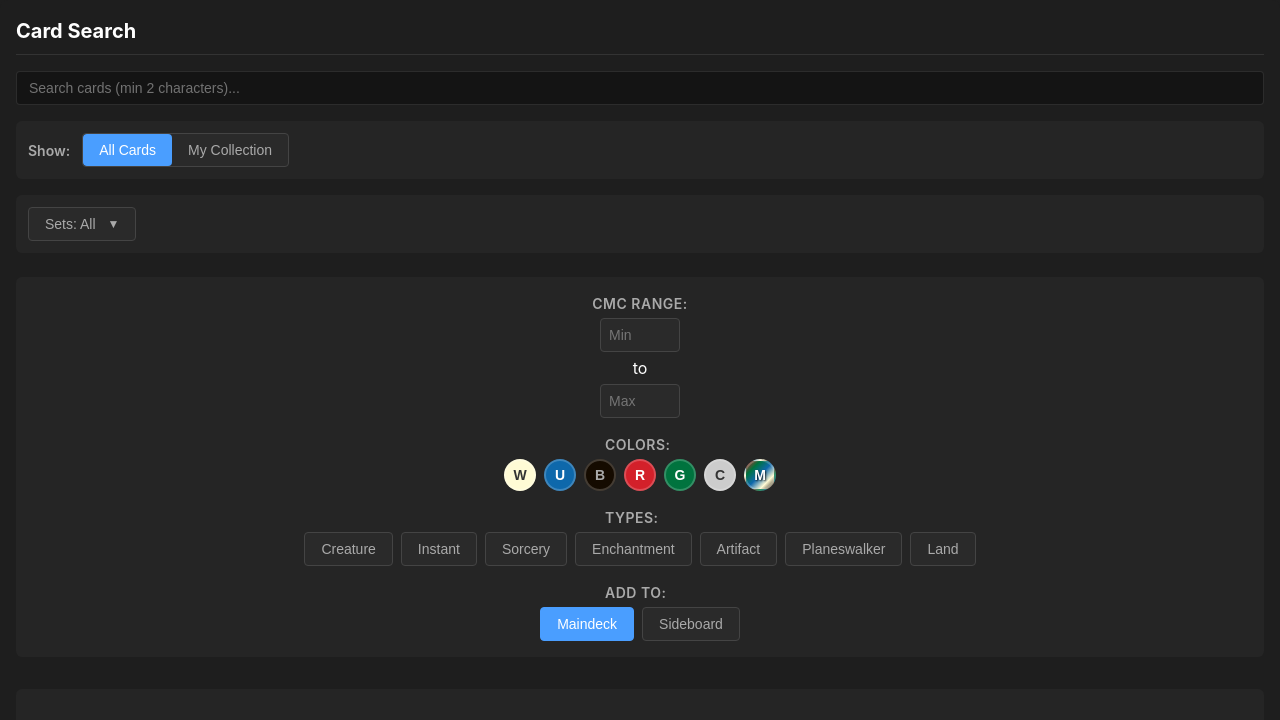
Test: CardSearch Component › Constructed Mode › should show collection empty message when collection filter active and no results
This screenshot has width=1280, height=720.
Note: Click on "My Collection" toggle
Click the button "My Collection".
click(230, 150)  # box [172,134,288,166]
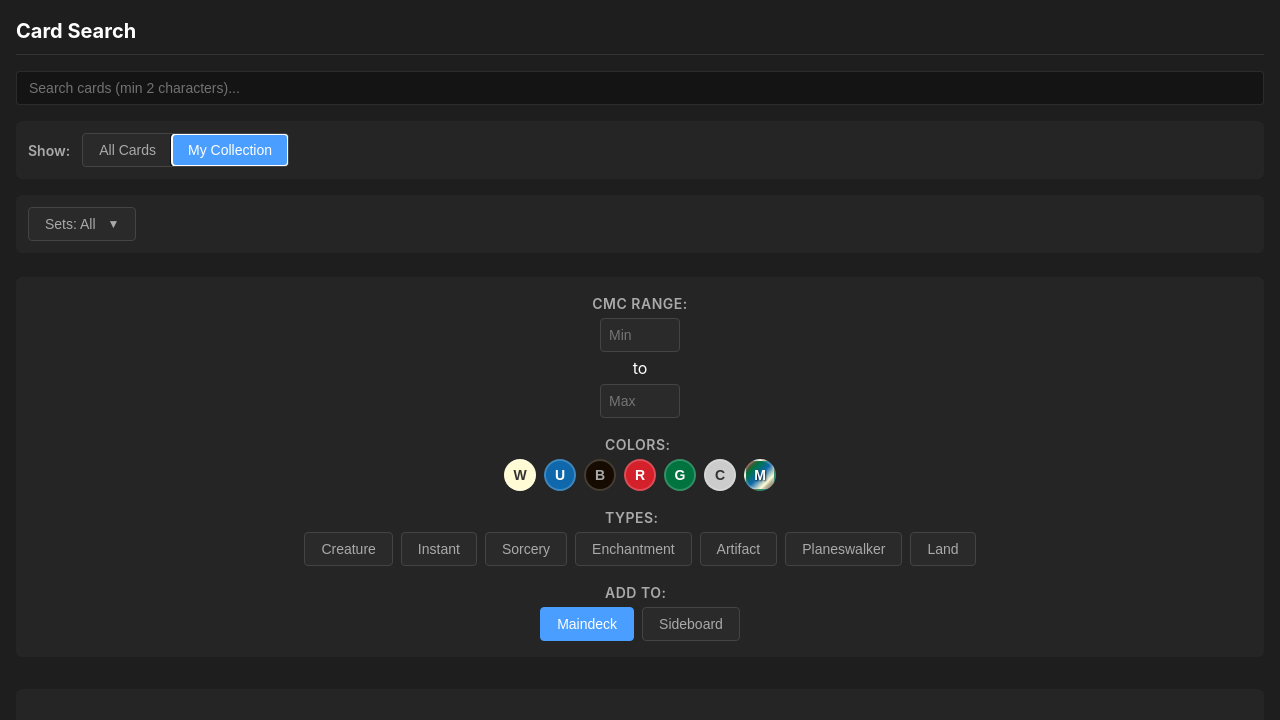
Note: Search for a card
Type "nonexistent" into the field with placeholder "Search cards (min 2 characters)...".
click(640, 88); type("nonexistent")  # box [16,71,1264,105]
(page scrolled)
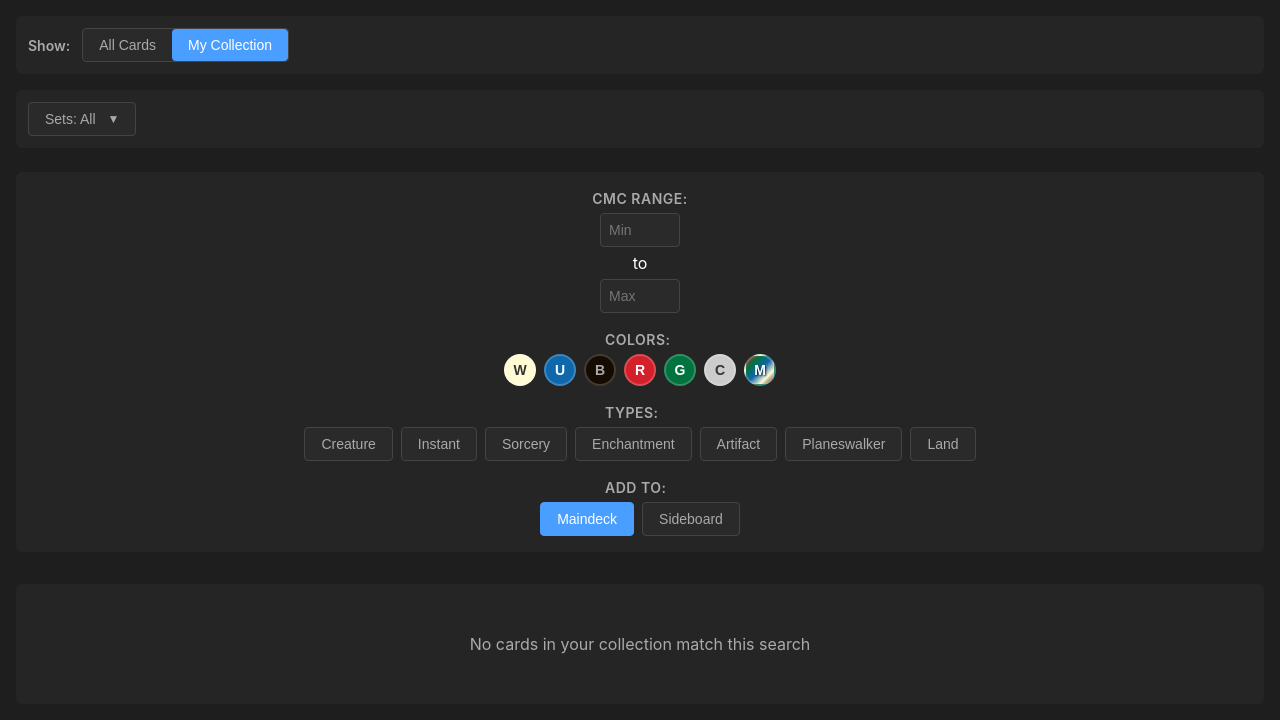
Expected: the text "No cards in your collection match this search" is shown, [470,634,810,654]
